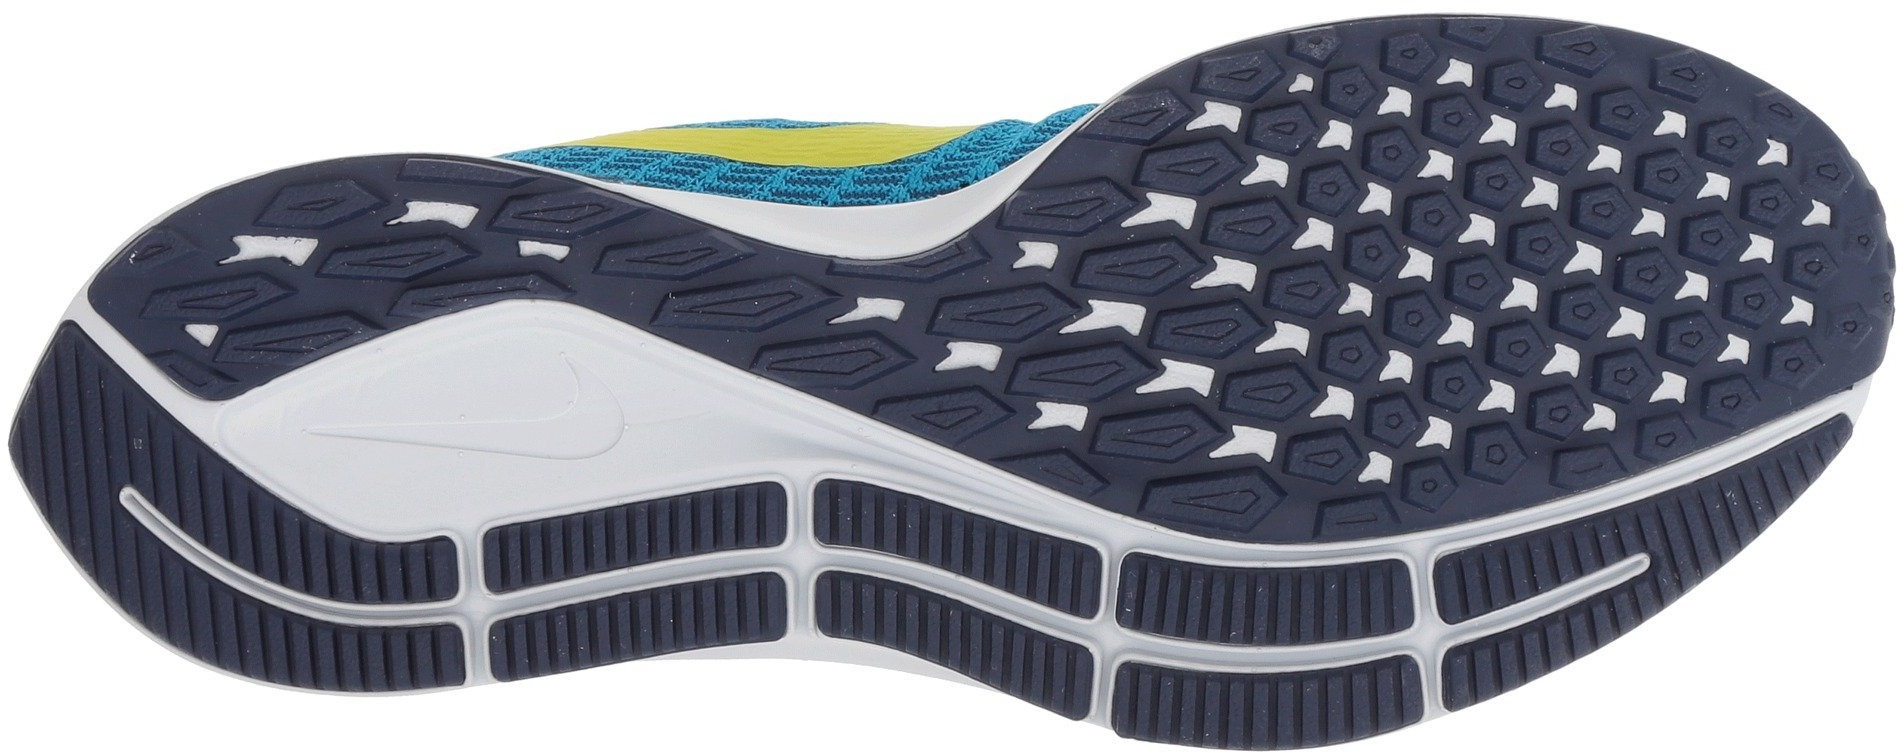chevron: (418, 308, 639, 513)
line: (872, 487, 1045, 664), (618, 483, 782, 662)
polygon: (1326, 58, 1724, 447), (1038, 199, 1334, 464)
quad: (1115, 553, 1307, 747), (872, 487, 1045, 664), (618, 483, 782, 662), (151, 489, 308, 645)
ribbon: (705, 327, 903, 513)
